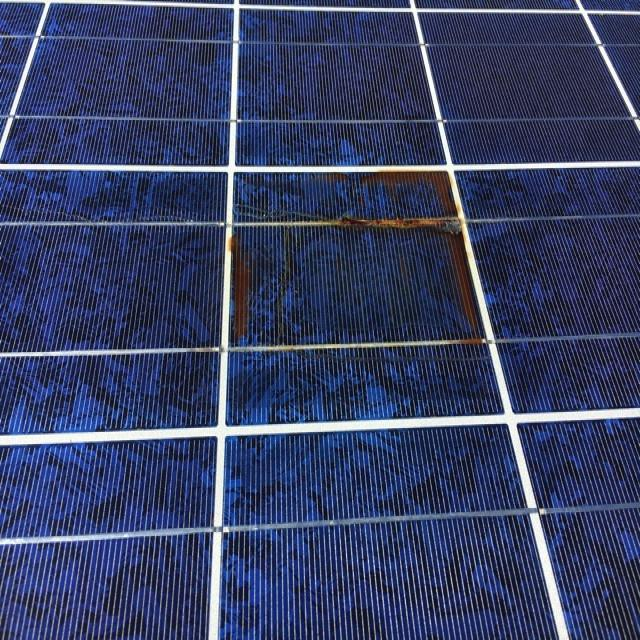electrical damage: (195, 151, 492, 351)
